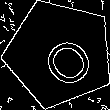O_NW: (26, 20, 93, 87)
